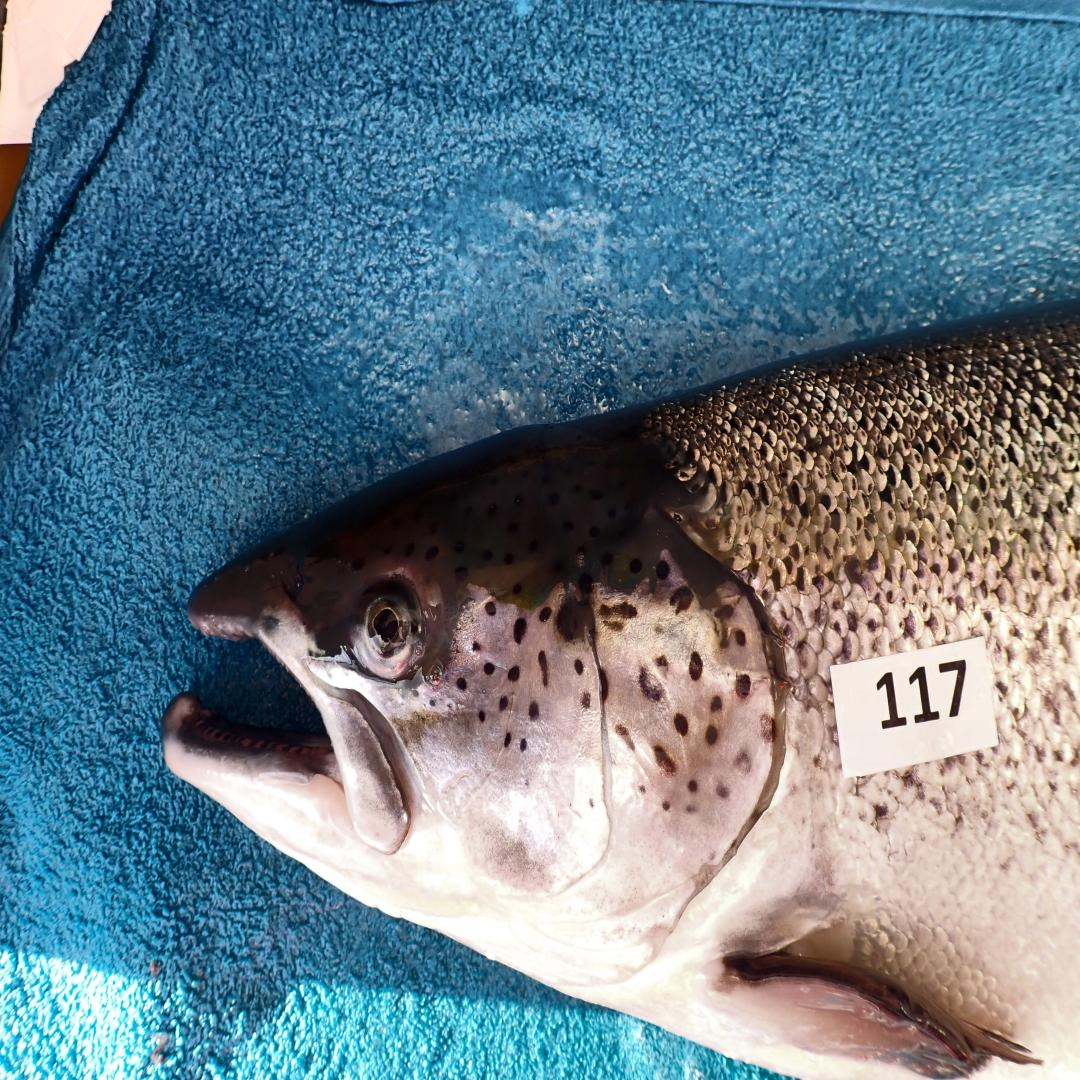spot: (555, 599, 585, 641), (639, 669, 664, 704), (713, 606, 733, 649), (653, 747, 678, 775), (669, 585, 694, 613), (600, 602, 638, 620), (759, 713, 777, 743), (616, 726, 635, 751), (688, 652, 702, 681), (736, 674, 751, 701), (513, 616, 527, 644), (654, 654, 670, 678), (539, 650, 549, 688), (734, 754, 752, 775), (673, 714, 688, 737), (578, 572, 593, 594), (599, 667, 608, 703), (656, 560, 670, 579), (715, 782, 730, 799), (734, 628, 747, 646), (705, 726, 717, 745), (711, 695, 724, 712), (529, 700, 540, 720), (602, 621, 624, 631), (508, 667, 521, 681), (538, 608, 551, 622), (687, 780, 700, 794), (574, 658, 584, 675), (485, 602, 496, 616), (684, 803, 698, 814), (582, 692, 591, 709), (483, 664, 496, 675), (500, 695, 508, 712), (479, 709, 487, 723), (504, 731, 510, 748), (663, 799, 671, 811), (472, 641, 481, 651), (458, 678, 466, 689), (521, 737, 527, 751), (639, 785, 646, 796), (429, 698, 436, 707), (589, 797, 594, 808), (413, 691, 419, 697)
